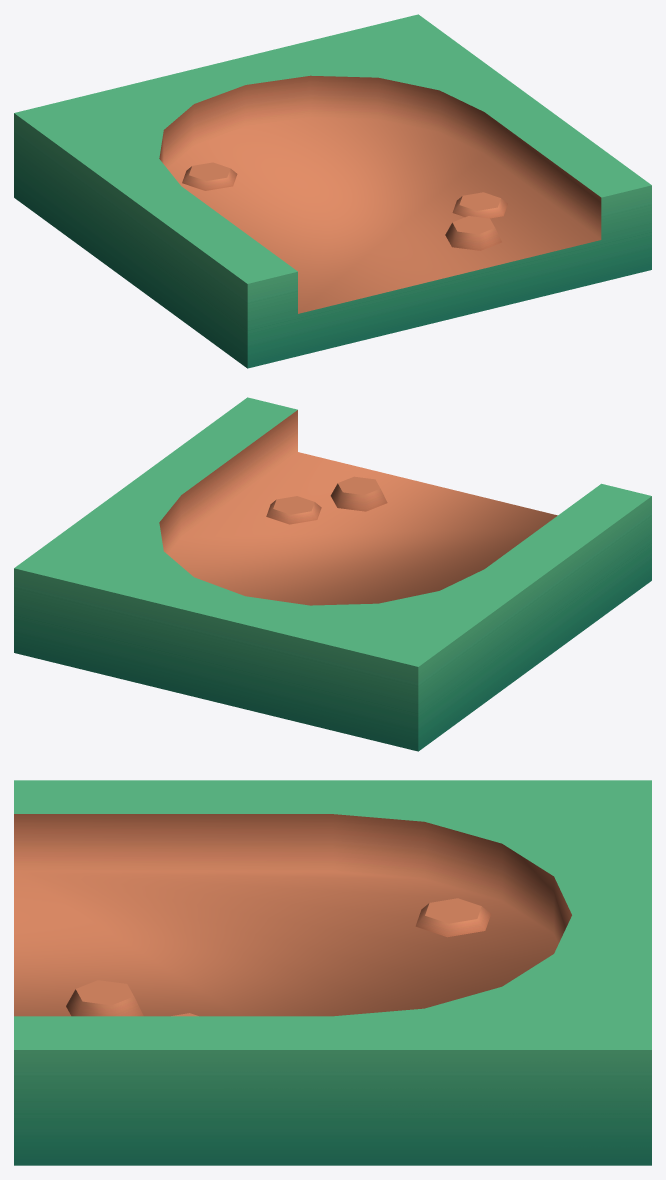
Rendered from kenney-tower-defense-tile-end-round.glb.
3 views of the same model, one above another, from view 1: azimuth 30°, elevation 25°; view 2: azimuth 150°, elevation 25°; view 3: azimuth 270°, elevation 25° (orthographic). The views are drawn at different scales.
Visible parts, largest first — view 1: tile-end-round; view 2: tile-end-round; view 3: tile-end-round.
Boxes of the visible parts, x1=… form: tile-end-round: x1=14, y1=14, x2=651, y2=368; tile-end-round: x1=14, y1=397, x2=651, y2=751; tile-end-round: x1=14, y1=780, x2=651, y2=1165.
Bounding box in the file's own units: 1 × 0.2 × 1.
Materials: 1 (1 with a texture image).
